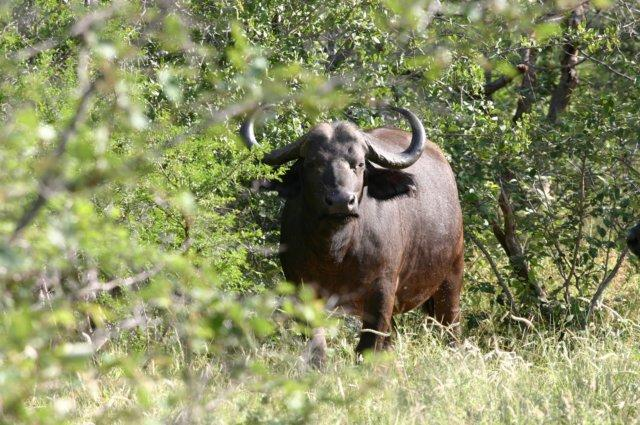Buffalo: (233, 67, 516, 400)
